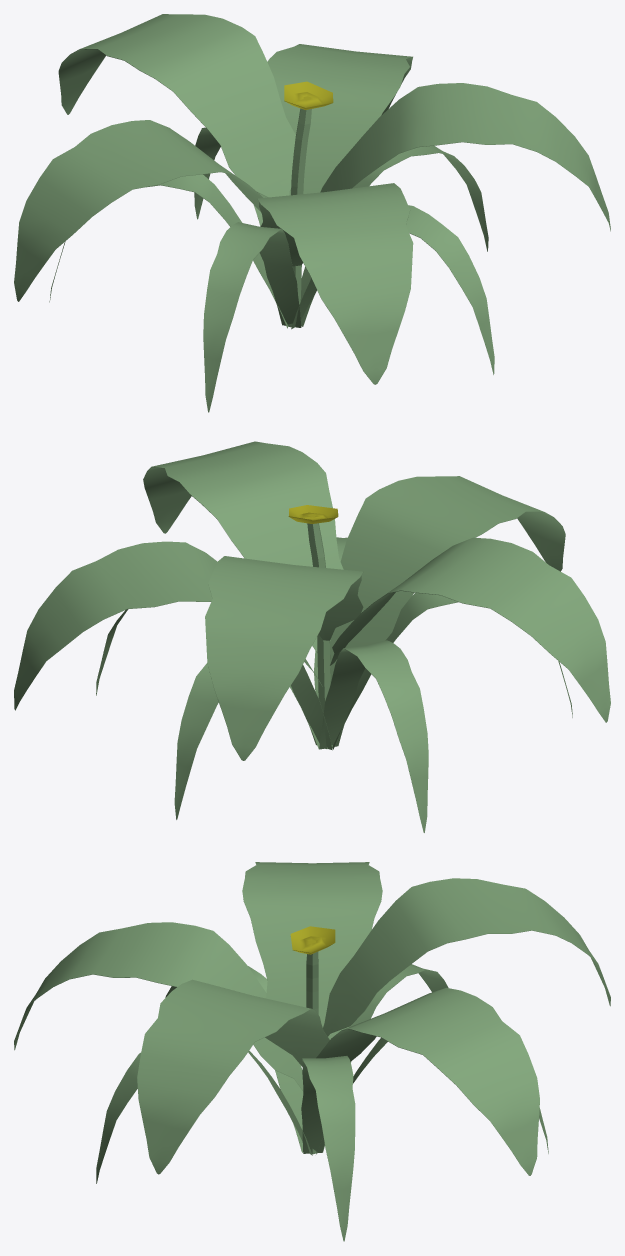
The model's file is Erva daninha.fbx.
3 views of the same model, one above another, from view 1: azimuth 30°, elevation 25°; view 2: azimuth 150°, elevation 25°; view 3: azimuth 270°, elevation 25° (orthographic). The views are drawn at different scales.
Parts seen in each view (by area): view 1: Folha_MESH8, Folha_MESH6, Folha_MESH7, Folha_MESH4, Folha_MESH5, Folha_MESH2, Folha_MESH3, Erva_daninha_MESH, Folha_MESH9, Folha_MESH, Folha_MESH1; view 2: Folha_MESH8, Folha_MESH6, Folha_MESH4, Folha_MESH7, Folha_MESH5, Folha_MESH, Folha_MESH1, Erva_daninha_MESH, Folha_MESH2; view 3: Folha_MESH4, Folha_MESH5, Folha_MESH8, Folha_MESH7, Folha_MESH6, Folha_MESH9, Folha_MESH3, Erva_daninha_MESH, Folha_MESH, Folha_MESH2.
Boxes of the visible parts, x1,y1,x2,y2 form: Folha_MESH8: [58, 14, 295, 197]; Folha_MESH6: [257, 183, 413, 384]; Folha_MESH7: [14, 120, 262, 301]; Folha_MESH4: [320, 83, 610, 231]; Folha_MESH5: [258, 44, 412, 197]; Folha_MESH2: [203, 222, 301, 412]; Folha_MESH3: [291, 205, 494, 374]; Erva_daninha_MESH: [284, 81, 333, 327]; Folha_MESH9: [300, 145, 488, 326]; Folha_MESH: [49, 174, 288, 328]; Folha_MESH1: [194, 127, 262, 226]; Folha_MESH8: [205, 556, 363, 760]; Folha_MESH6: [330, 476, 565, 681]; Folha_MESH4: [143, 441, 343, 652]; Folha_MESH7: [330, 537, 610, 722]; Folha_MESH5: [14, 541, 322, 710]; Folha_MESH: [319, 640, 428, 832]; Folha_MESH1: [174, 663, 332, 819]; Erva_daninha_MESH: [288, 505, 338, 748]; Folha_MESH2: [332, 592, 572, 749]; Folha_MESH4: [137, 979, 329, 1174]; Folha_MESH5: [316, 987, 539, 1175]; Folha_MESH8: [323, 878, 610, 1036]; Folha_MESH7: [242, 862, 382, 1039]; Folha_MESH6: [14, 922, 303, 1091]; Folha_MESH9: [301, 1056, 355, 1241]; Folha_MESH3: [96, 1050, 312, 1183]; Erva_daninha_MESH: [290, 926, 335, 1154]; Folha_MESH: [323, 964, 448, 1151]; Folha_MESH2: [165, 966, 303, 1152].
Bounding box in the file's own units: 131 × 56.87 × 135.
